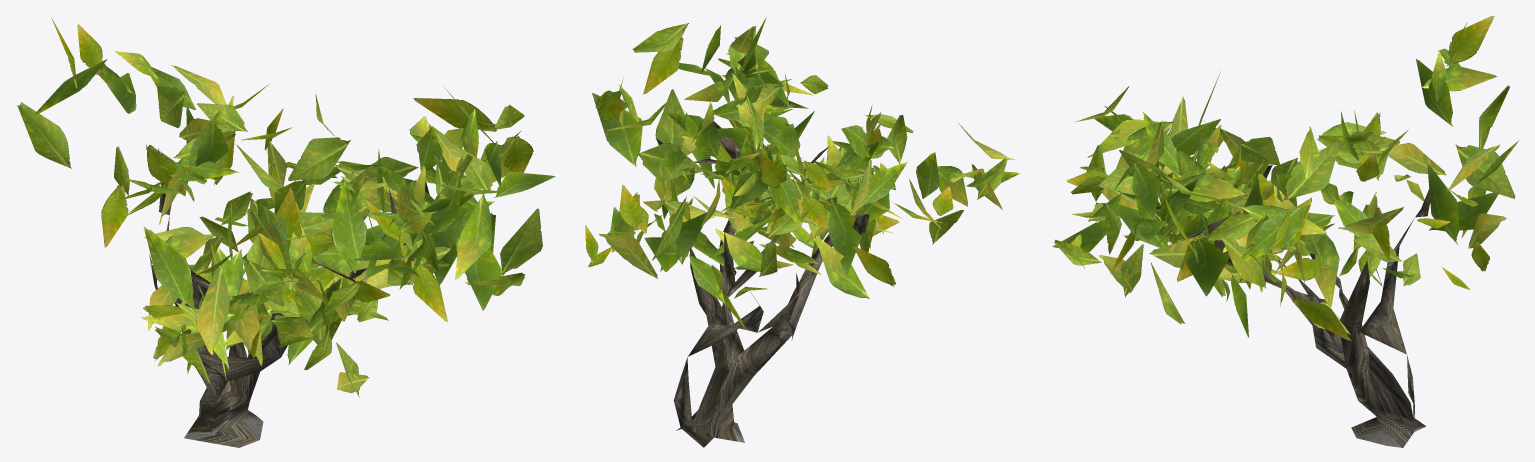
Rendered from coastal-remote.glb.
3 views of the same model, side by side, from view 1: azimuth 30°, elevation 25°; view 2: azimuth 150°, elevation 25°; view 3: azimuth 270°, elevation 25° (orthographic). The views are drawn at different scales.
Size of the model in its own units: 4.05 by 3.61 by 4.21.
2 materials, 2 textured.
